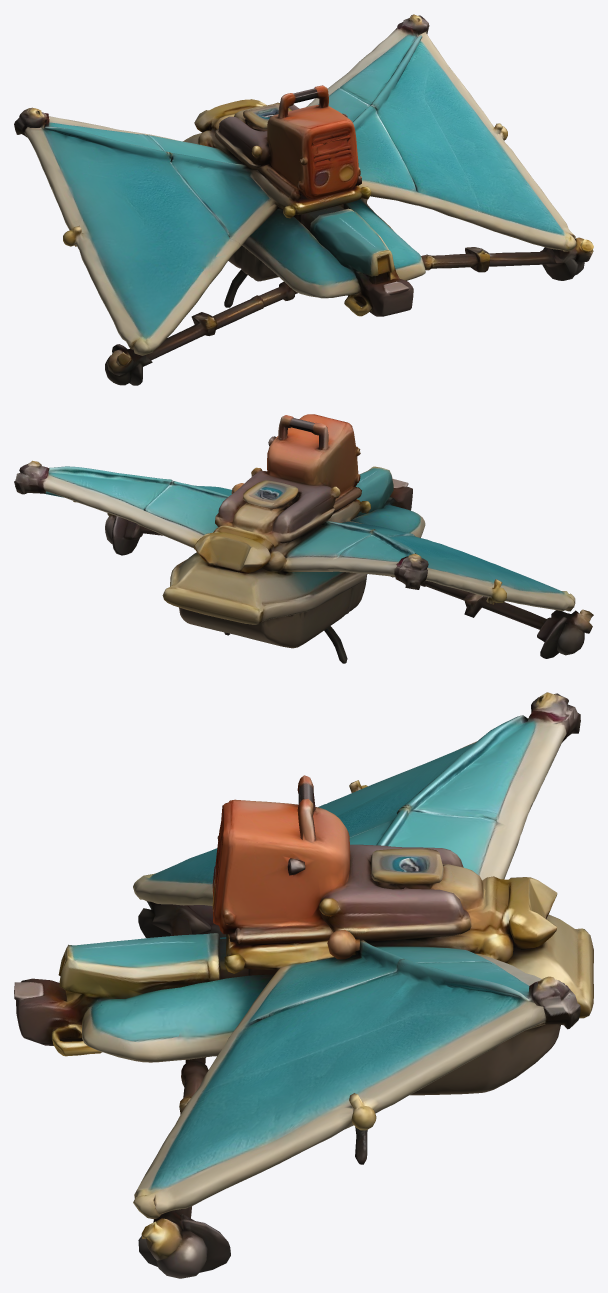
File: rooftop-radio-glider.glb
3 views of the same model, one above another, from view 1: azimuth 30°, elevation 25°; view 2: azimuth 150°, elevation 25°; view 3: azimuth 270°, elevation 25° (orthographic). The views are drawn at different scales.
Visible parts, largest first — view 1: tripo_node_c8ffe7a5-4a2e-4927-967c-fe8db337d45e; view 2: tripo_node_c8ffe7a5-4a2e-4927-967c-fe8db337d45e; view 3: tripo_node_c8ffe7a5-4a2e-4927-967c-fe8db337d45e.
Part boxes in pixels (left/top/right/bottom): tripo_node_c8ffe7a5-4a2e-4927-967c-fe8db337d45e: left=14, top=14, right=593, bottom=385; tripo_node_c8ffe7a5-4a2e-4927-967c-fe8db337d45e: left=14, top=414, right=593, bottom=663; tripo_node_c8ffe7a5-4a2e-4927-967c-fe8db337d45e: left=14, top=692, right=593, bottom=1278.
Size of the model in its own units: 1 by 0.4299 by 0.6812.
Materials: 1 (1 with a texture image).
